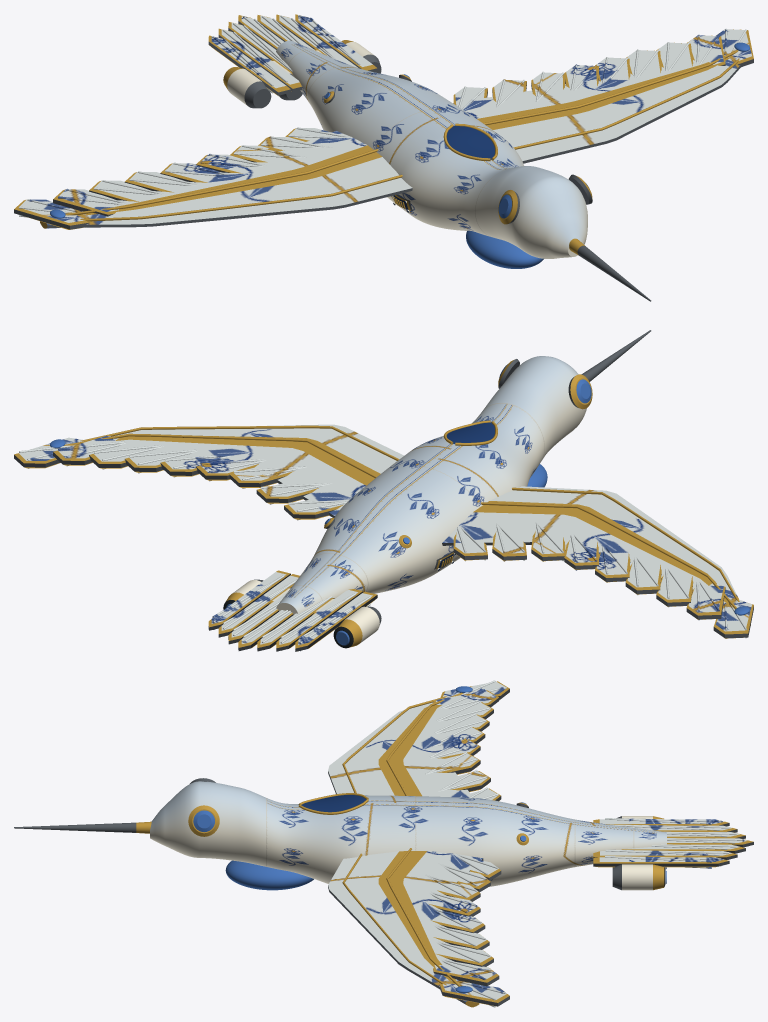
3 views of the same model, one above another, from view 1: azimuth 30°, elevation 25°; view 2: azimuth 150°, elevation 25°; view 3: azimuth 270°, elevation 25° (orthographic). The views are drawn at different scales.
Parts seen in each view (by area): view 1: hummingbird_hull; view 2: hummingbird_hull; view 3: hummingbird_hull.
Boxes of the visible parts, x1,y1,x2,y2 form: hummingbird_hull: (14, 14, 753, 301); hummingbird_hull: (14, 330, 753, 651); hummingbird_hull: (14, 680, 753, 1007).
Size of the model in its own units: 17 by 2.47 by 16.53.
Materials: 1 (1 with a texture image).
